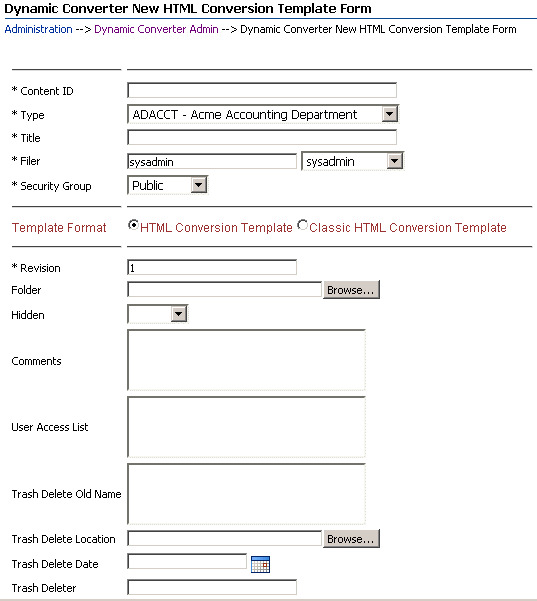_form_: (2, 185, 418, 601), (1, 62, 416, 478)
button: (322, 529, 382, 551), (323, 279, 382, 300)
field: (125, 462, 369, 526), (125, 327, 368, 391), (126, 396, 365, 459), (126, 79, 399, 100), (127, 103, 399, 123), (123, 128, 398, 146), (125, 278, 323, 298), (125, 529, 322, 548), (123, 578, 300, 596), (124, 258, 298, 276), (124, 153, 298, 170), (124, 552, 248, 571), (299, 150, 405, 170), (125, 174, 208, 196), (126, 303, 188, 325)
field_with_label: (12, 77, 402, 102), (12, 100, 400, 124), (12, 124, 400, 147), (12, 149, 301, 172), (13, 174, 209, 198)
radio: (124, 218, 144, 232), (295, 217, 310, 232)
radio_with_label: (13, 326, 369, 393), (10, 394, 366, 461), (11, 462, 369, 528), (10, 277, 322, 300), (6, 256, 300, 278), (12, 576, 302, 598), (10, 527, 323, 547), (12, 550, 249, 574), (294, 215, 509, 236), (10, 302, 188, 326), (121, 216, 293, 235)
